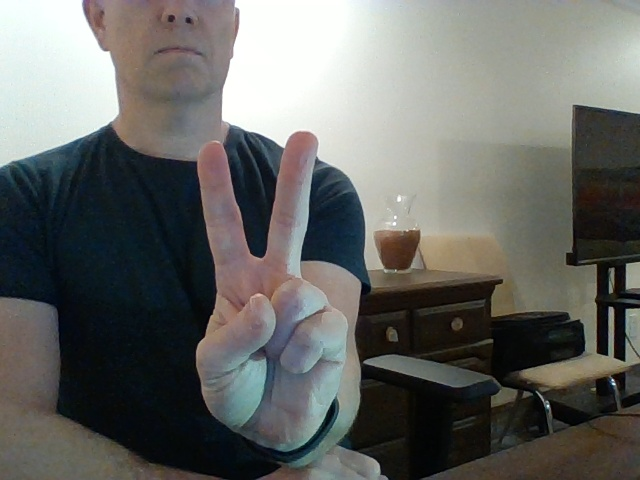Victory: (196, 130, 348, 449)
